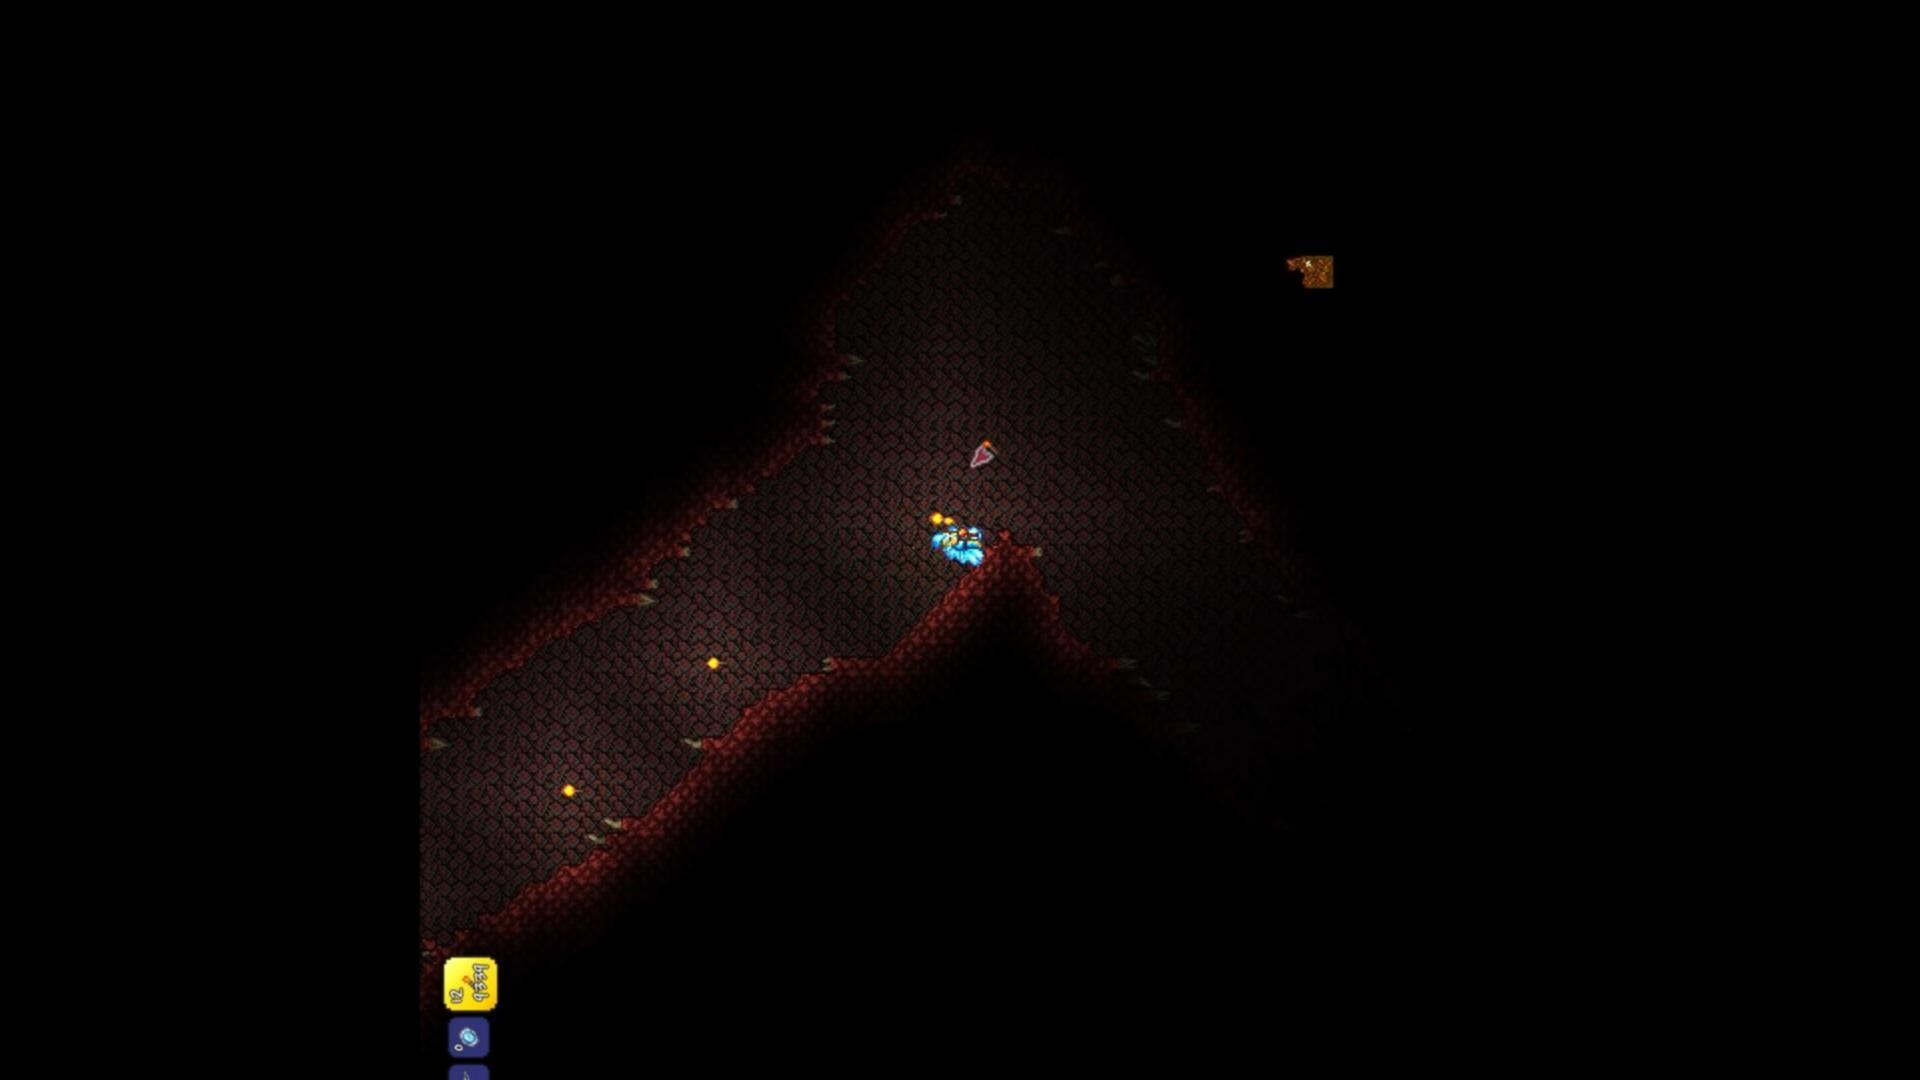mirror: (459, 1025, 480, 1046)
